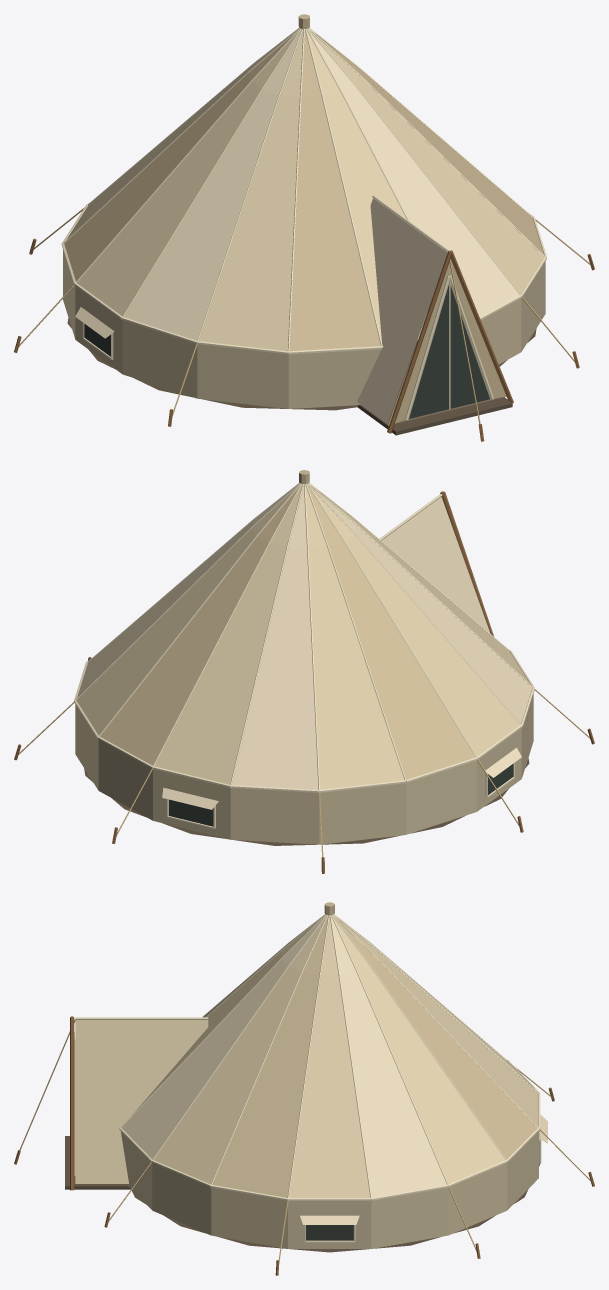
The model's file is 05_extra_large_bell.glb.
The picture shows the model from 3 angles, top to bottom: view 1: azimuth 30°, elevation 25°; view 2: azimuth 150°, elevation 25°; view 3: azimuth 270°, elevation 25°; orthographic projection. The views are drawn at different scales.
Parts seen in each view (by area): view 1: Roof_Lower_Panel_16, Roof_Lower_Panel_15, Roof_Lower_Panel_14, Left_Entrance_Porch, Roof_Lower_Panel_13, Roof_Lower_Panel_02, Roof_Lower_Panel_03, Roof_Lower_Panel_12, Roof_Lower_Panel_01, Canvas_Wall_15, Porch_Dark_Entry, Canvas_Wall_16 (+20 smaller); view 2: Roof_Lower_Panel_10, Roof_Lower_Panel_11, Roof_Lower_Panel_09, Roof_Lower_Panel_12, Roof_Lower_Panel_08, Roof_Lower_Panel_13, Roof_Lower_Panel_07, Left_Entrance_Porch, Roof_Lower_Panel_14, Canvas_Wall_10, Canvas_Wall_11, Canvas_Wall_12 (+19 smaller); view 3: Right_Entrance_Porch, Roof_Lower_Panel_05, Roof_Lower_Panel_04, Roof_Lower_Panel_06, Roof_Lower_Panel_03, Roof_Lower_Panel_07, Roof_Lower_Panel_02, Roof_Lower_Panel_08, Canvas_Wall_06, Canvas_Wall_04, Roof_Lower_Panel_09, Canvas_Wall_03 (+14 smaller).
Boxes of the visible parts, <box> form: Roof_Lower_Panel_16: <box>289,96,380,351</box>; Roof_Lower_Panel_15: <box>199,95,299,351</box>; Roof_Lower_Panel_14: <box>124,90,278,340</box>; Left_Entrance_Porch: <box>357,198,447,423</box>; Roof_Lower_Panel_13: <box>77,82,261,316</box>; Roof_Lower_Panel_02: <box>342,85,519,316</box>; Roof_Lower_Panel_03: <box>355,76,544,293</box>; Roof_Lower_Panel_12: <box>64,73,250,281</box>; Roof_Lower_Panel_01: <box>323,92,426,342</box>; Canvas_Wall_15: <box>197,344,288,408</box>; Porch_Dark_Entry: <box>409,285,489,418</box>; Canvas_Wall_16: <box>288,349,381,408</box>; Roof_Lower_Panel_10: <box>232,548,318,789</box>; Roof_Lower_Panel_11: <box>308,547,404,789</box>; Roof_Lower_Panel_09: <box>154,543,286,784</box>; Roof_Lower_Panel_12: <box>328,542,475,779</box>; Roof_Lower_Panel_08: <box>100,537,268,765</box>; Roof_Lower_Panel_13: <box>345,534,519,756</box>; Roof_Lower_Panel_07: <box>76,528,256,735</box>; Left_Entrance_Porch: <box>381,497,490,633</box>; Roof_Lower_Panel_14: <box>355,526,532,723</box>; Canvas_Wall_10: <box>230,788,319,844</box>; Canvas_Wall_11: <box>319,783,405,844</box>; Canvas_Wall_12: <box>406,760,476,834</box>; Right_Entrance_Porch: <box>75,1020,208,1183</box>; Roof_Lower_Panel_05: <box>289,975,370,1197</box>; Roof_Lower_Panel_04: <box>212,972,319,1197</box>; Roof_Lower_Panel_06: <box>340,972,446,1197</box>; Roof_Lower_Panel_03: <box>154,967,301,1184</box>; Roof_Lower_Panel_07: <box>358,967,505,1184</box>; Roof_Lower_Panel_02: <box>122,959,287,1159</box>; Roof_Lower_Panel_08: <box>371,959,537,1159</box>; Canvas_Wall_06: <box>371,1187,448,1248</box>; Canvas_Wall_04: <box>211,1187,287,1248</box>; Roof_Lower_Panel_09: <box>378,951,538,1126</box>; Canvas_Wall_03: <box>152,1163,211,1235</box>.
Bounding box in the file's own units: 6.47 × 3.5 × 7.08.
